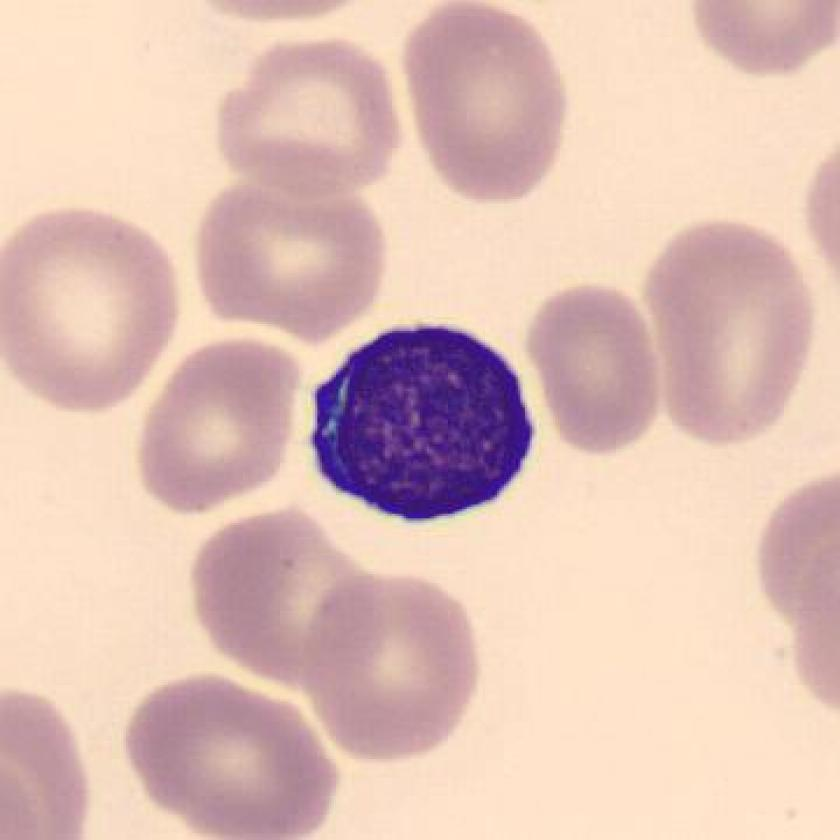lymphocyte: (295, 313, 547, 531)
